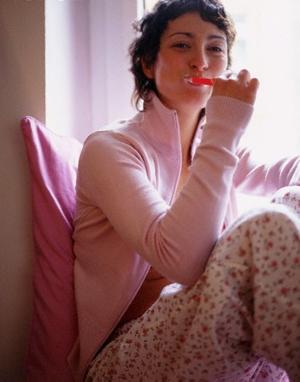person: (75, 3, 300, 382)
